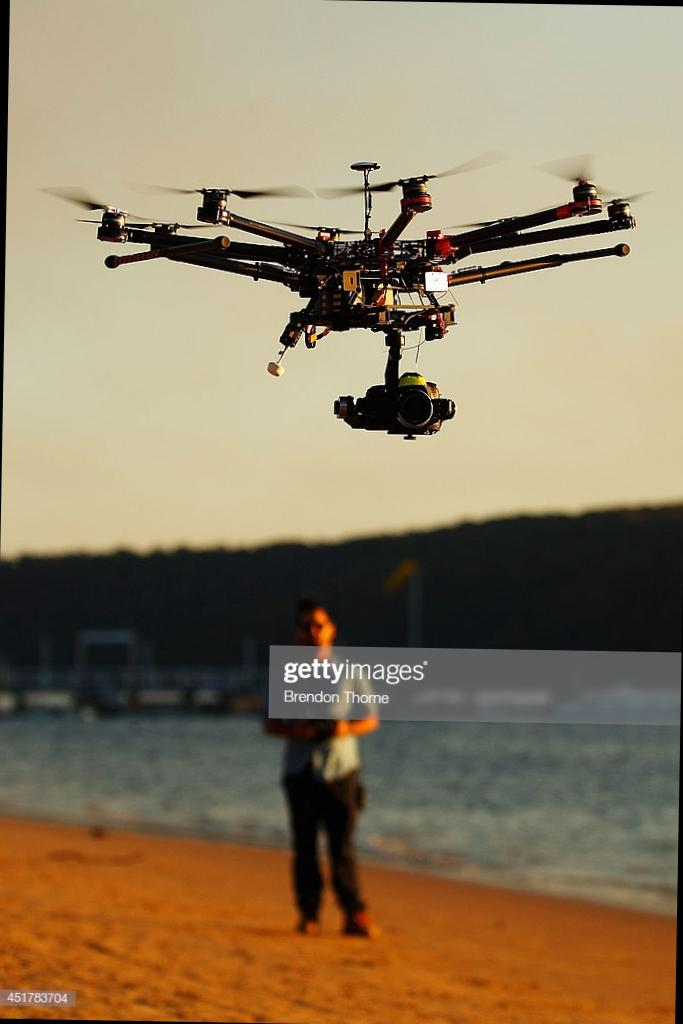drone: (40, 156, 671, 390)
